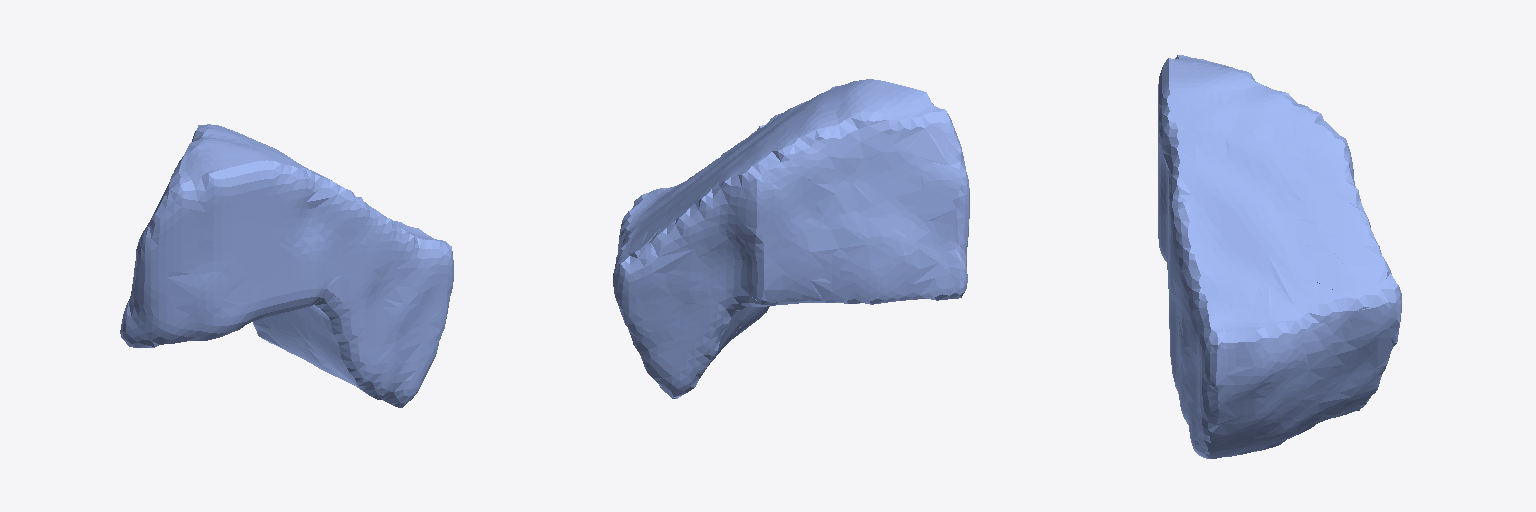
File: Model_107_RH__Parietal_area_PE__caudal_part_(PEC).obj
3 views of the same model, side by side, from view 1: azimuth 30°, elevation 25°; view 2: azimuth 150°, elevation 25°; view 3: azimuth 270°, elevation 25° (orthographic).
Bounding box in the file's own units: 3.72 × 3.2 × 2.38.